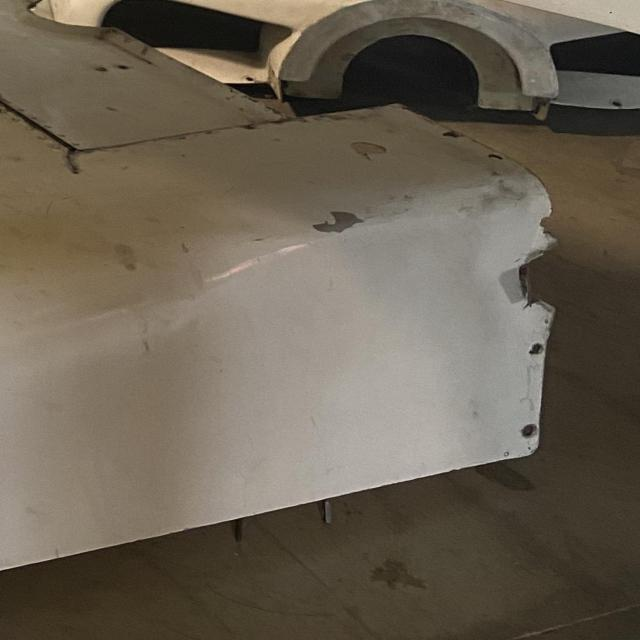Paint-off: (315, 213, 362, 235), (354, 143, 389, 160)
